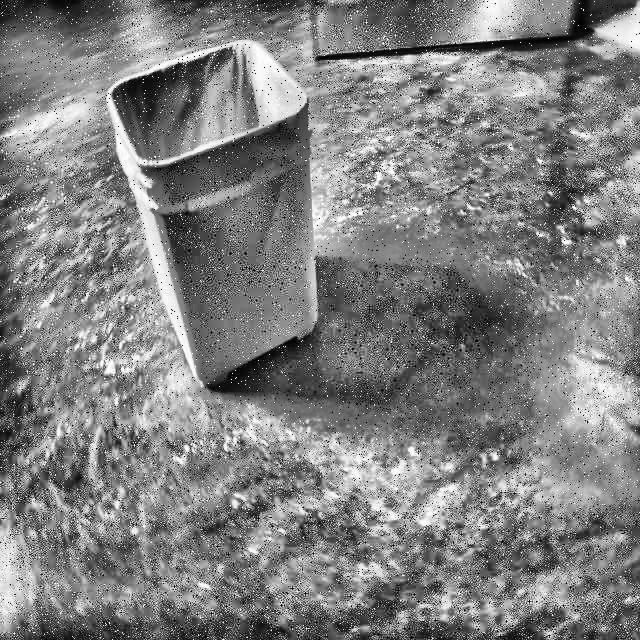Dustbin: (96, 31, 360, 417)
